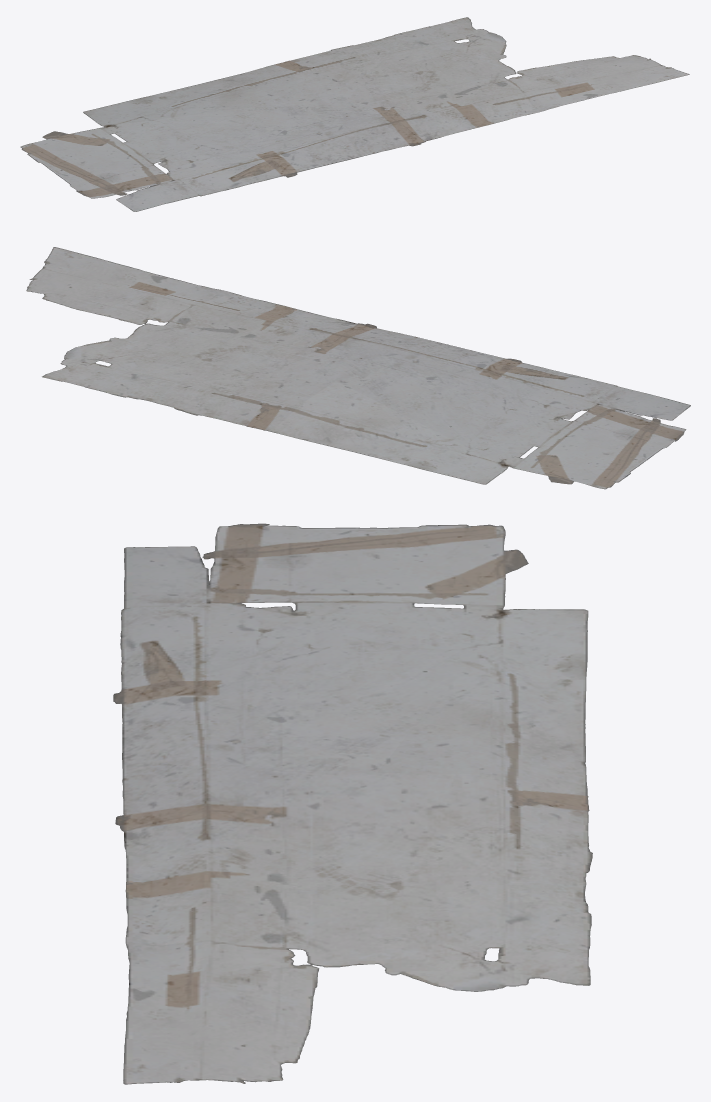
Rendered from SM_Cardboard_Flat02.glb.
The picture shows the model from 3 angles, top to bottom: view 1: azimuth 30°, elevation 25°; view 2: azimuth 150°, elevation 25°; view 3: azimuth 270°, elevation 25°; orthographic projection. The views are drawn at different scales.
Visible parts, largest first — view 1: SM_Cardboard_Flat02; view 2: SM_Cardboard_Flat02; view 3: SM_Cardboard_Flat02.
Boxes of the visible parts, bbox=[...] form: SM_Cardboard_Flat02: bbox=[20, 17, 689, 211]; SM_Cardboard_Flat02: bbox=[26, 247, 690, 489]; SM_Cardboard_Flat02: bbox=[113, 523, 592, 1084].
Size of the model in its own units: 0.5337 by 0.0107 by 0.1915.
Materials: 1 (1 with a texture image).
